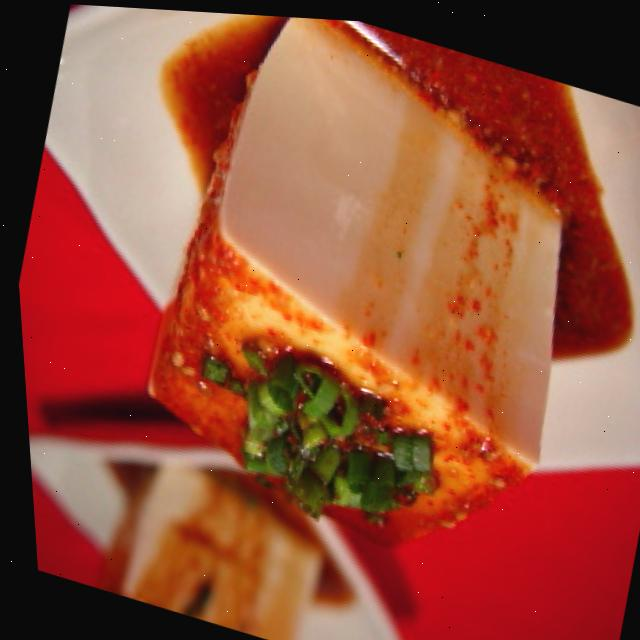豆腐料理: (105, 5, 637, 583)
